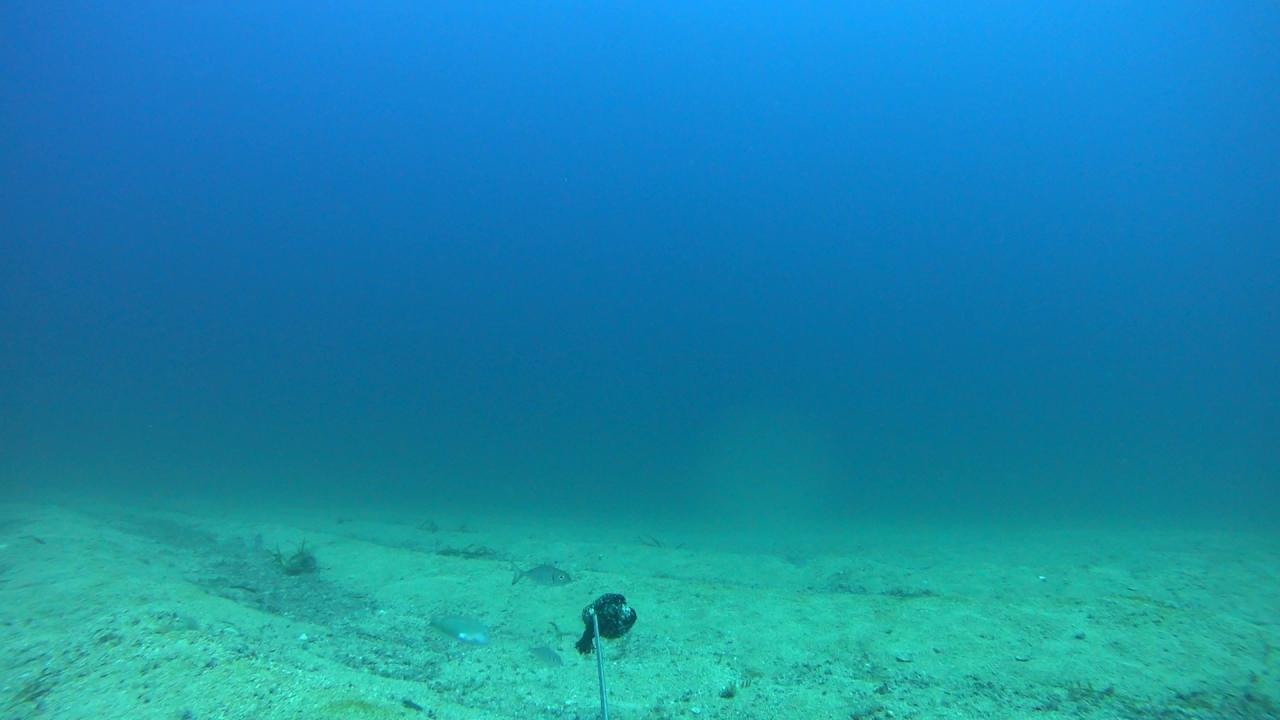pagellus: (507, 560, 575, 586), (526, 642, 566, 668)
raor: (428, 611, 492, 647)
